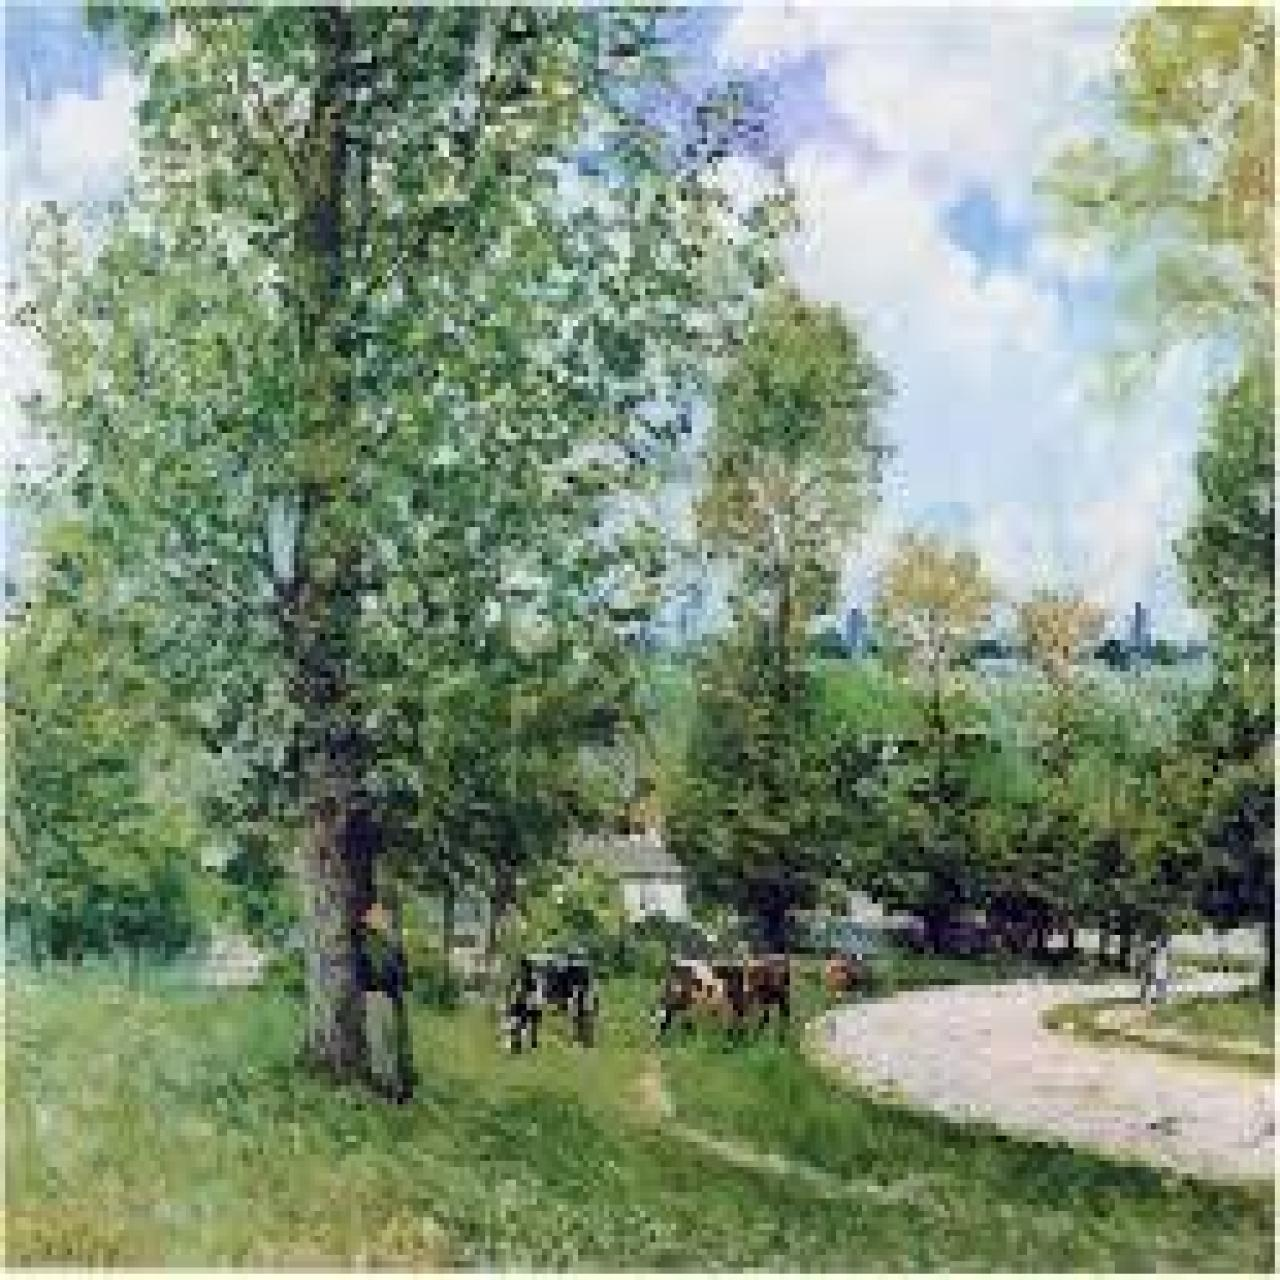cow: (492, 951, 601, 1057), (707, 951, 795, 1044), (653, 953, 720, 1042)
